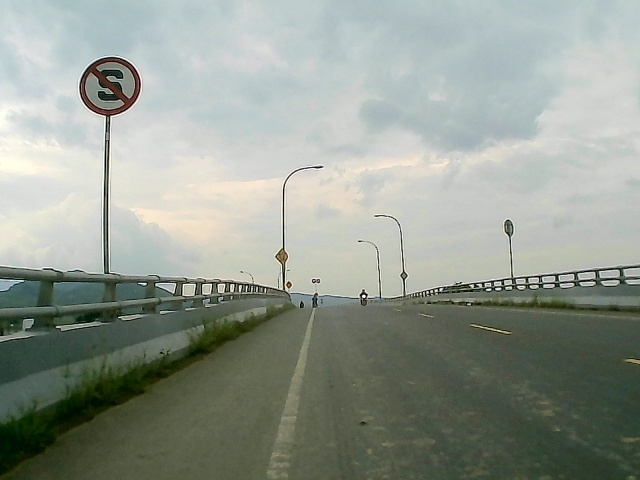Dilarang berhenti: (77, 55, 144, 117)
